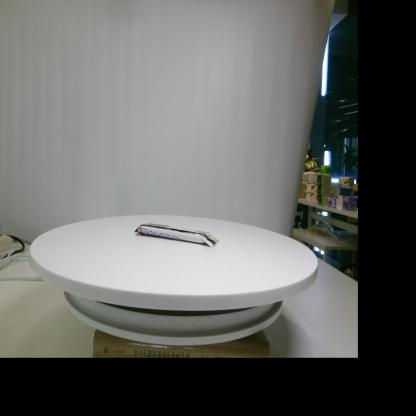Chocolate: (134, 224, 219, 248)
